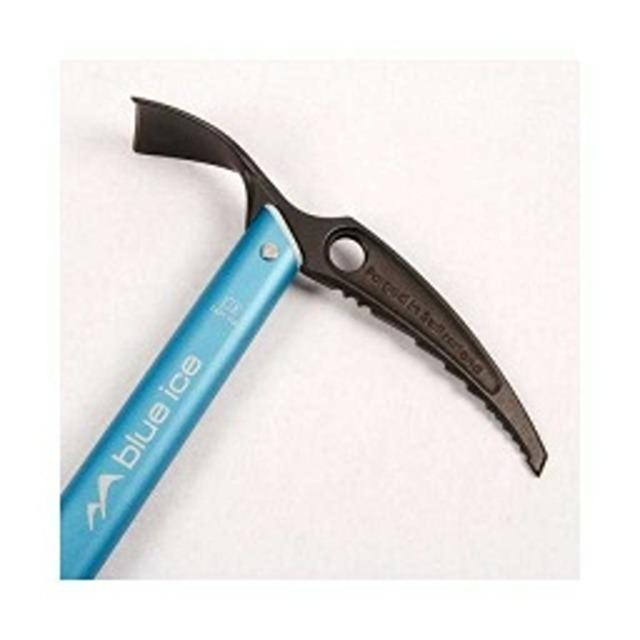ax: (60, 81, 555, 580)
